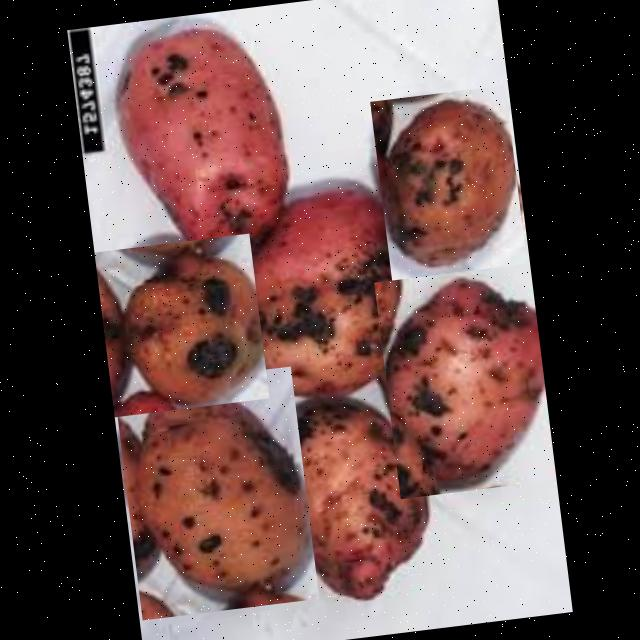Defected potato: (104, 10, 325, 275), (114, 365, 318, 619), (374, 262, 557, 498), (271, 392, 441, 602), (370, 84, 528, 287)
Diseased-fungal potato: (225, 178, 438, 417), (94, 232, 269, 416)
